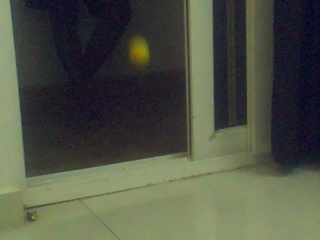ball: (128, 35, 149, 68)
